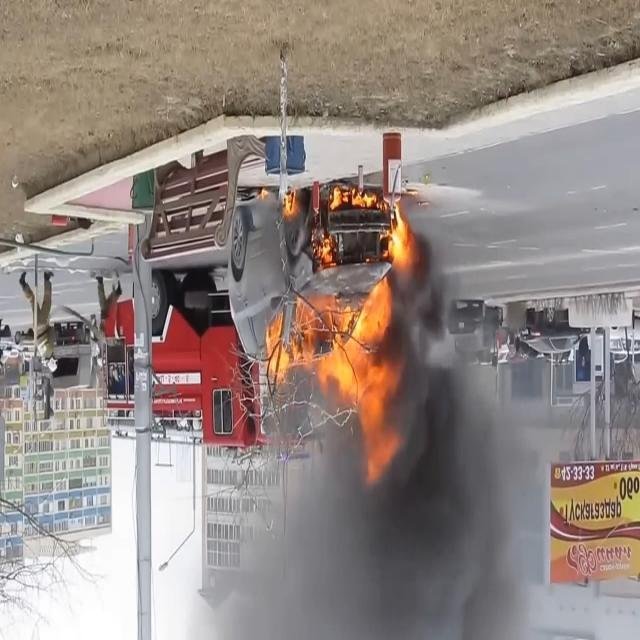fire: (258, 172, 425, 488)
